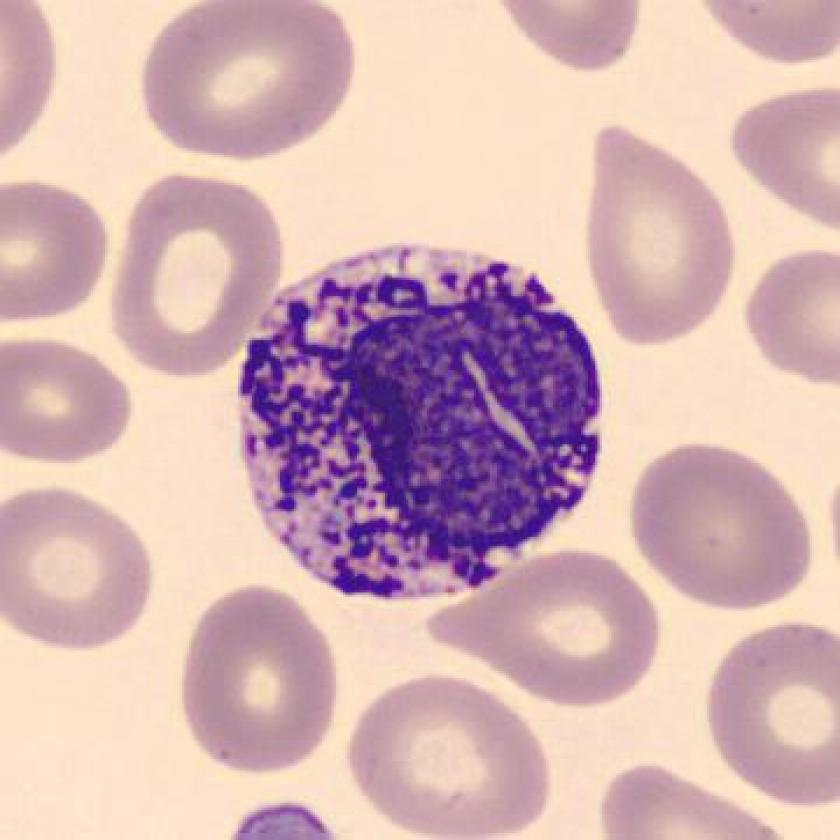basophil: (225, 233, 619, 617)
